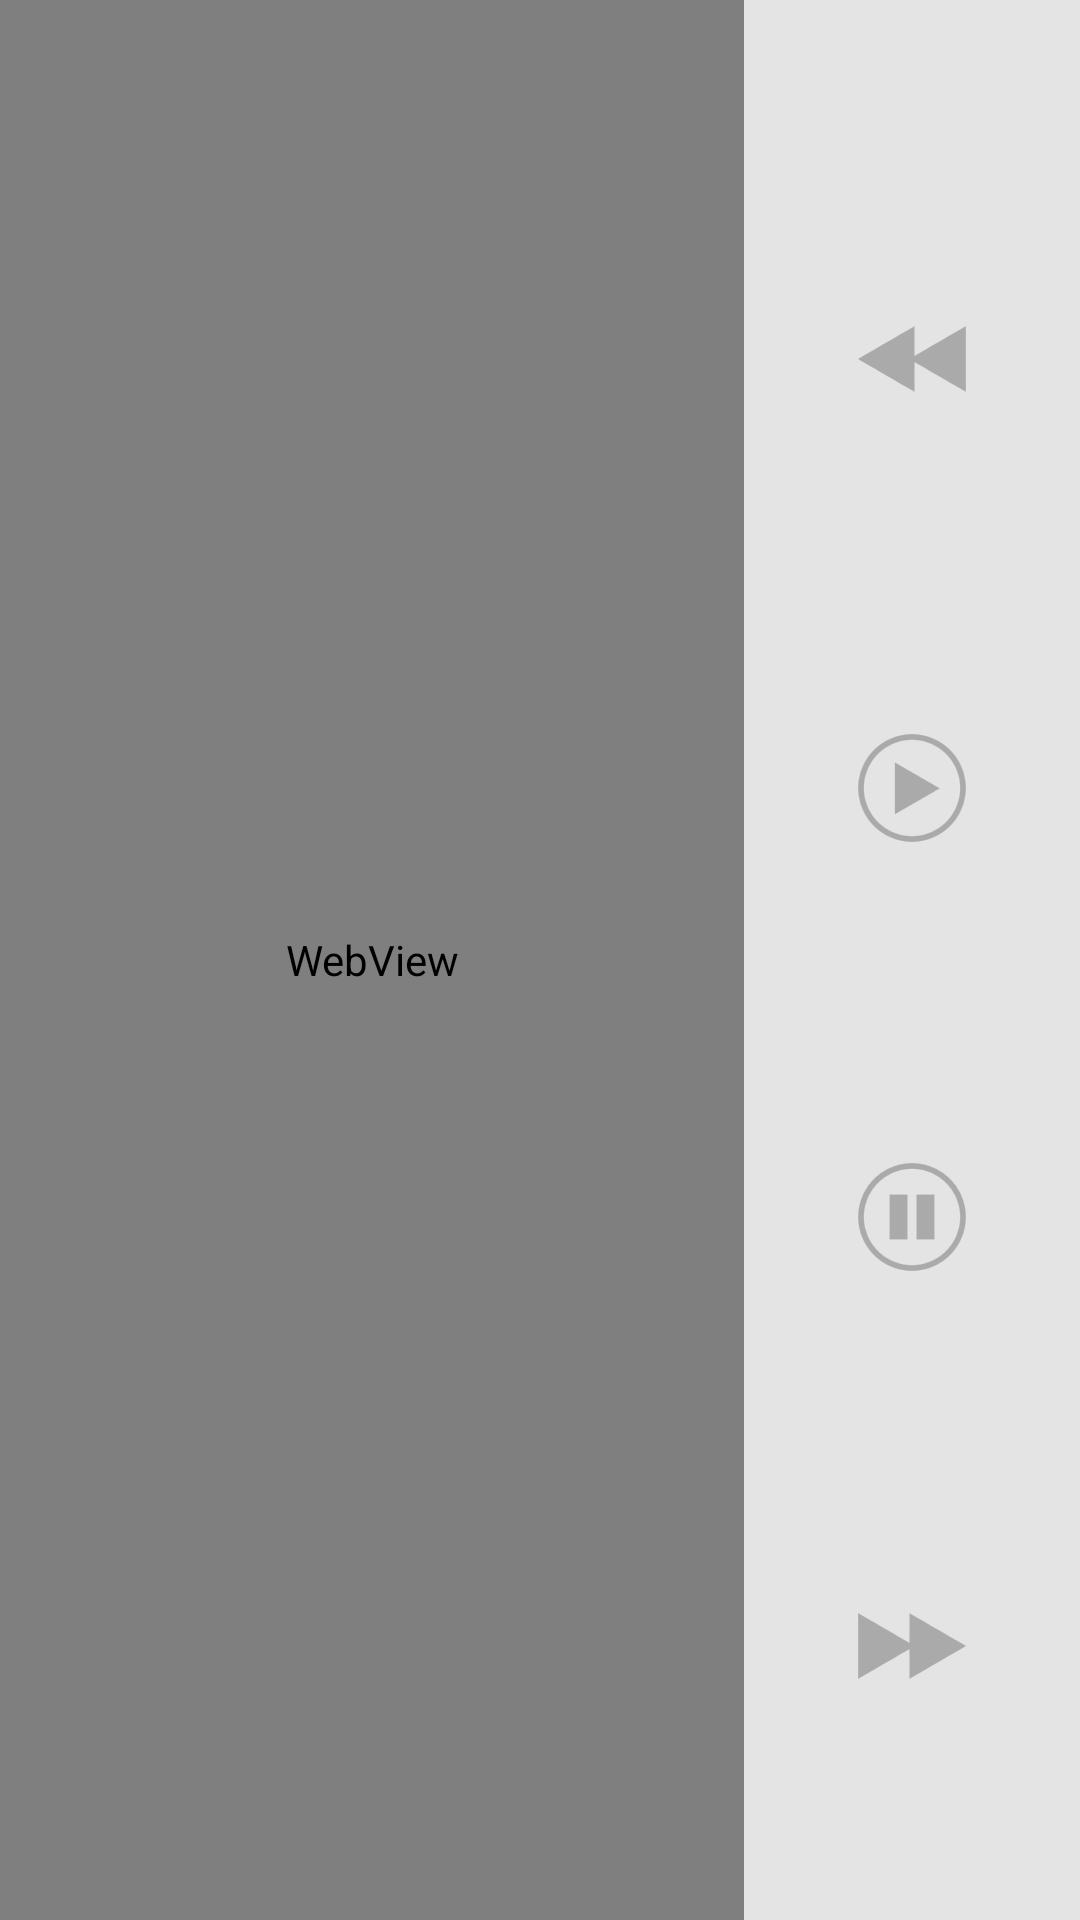

Locate icon controls on the screen. Image size 1080w x 1920h, boxes as (x1, y1, x2, y2).
fast forward: (858, 1613, 965, 1679)
pause: (858, 1163, 966, 1271)
play: (858, 734, 966, 842)
rewind: (859, 326, 966, 392)
